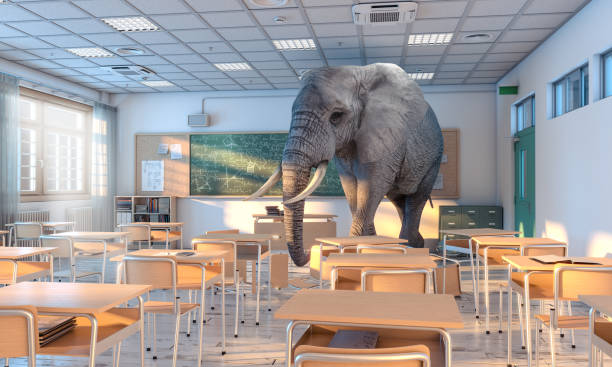africanelephant: (266, 57, 365, 231)
